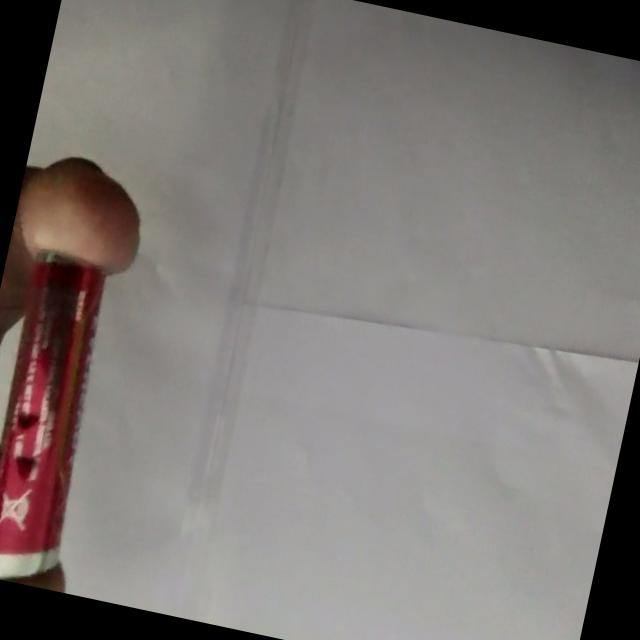battery: (0, 258, 104, 580)
dent: (12, 454, 36, 480), (17, 412, 35, 430)
